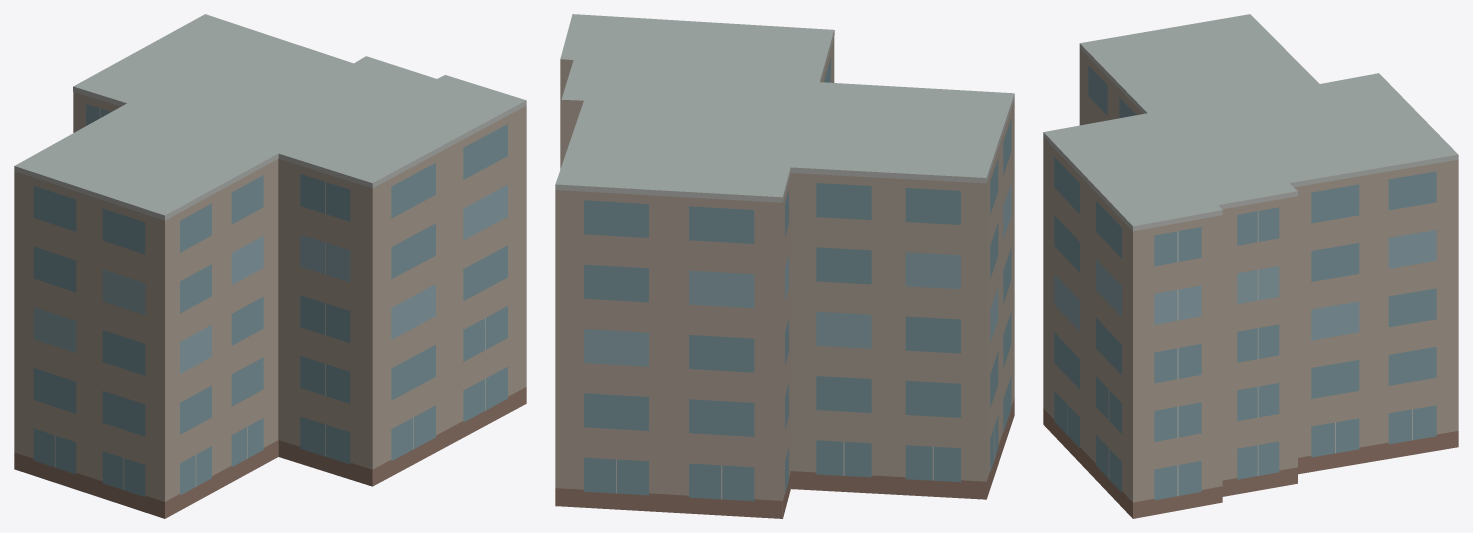
Rendered from survey-upis-33016257.glb.
3 views of the same model, side by side, from view 1: azimuth 30°, elevation 25°; view 2: azimuth 150°, elevation 25°; view 3: azimuth 270°, elevation 25° (orthographic). The views are drawn at different scales.
Parts seen in each view (by area): view 1: survey-upis-33016257.tmp; view 2: survey-upis-33016257.tmp; view 3: survey-upis-33016257.tmp.
Part boxes in pixels (<box>): survey-upis-33016257.tmp: <box>14,14,526,518</box>; survey-upis-33016257.tmp: <box>555,14,1014,518</box>; survey-upis-33016257.tmp: <box>1043,14,1458,518</box>.
Bounding box in the file's own units: 22.28 × 14.3 × 18.4.
